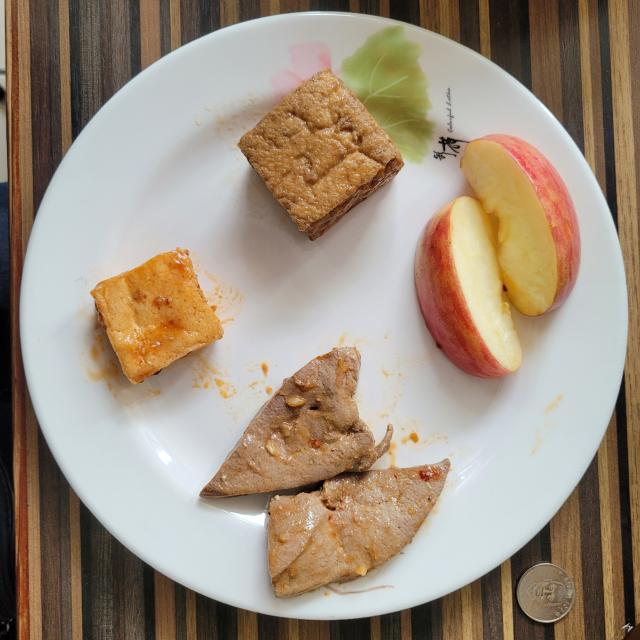apple -sliced-: (415, 135, 580, 378)
coin: (518, 564, 575, 622)
creamy tofu: (91, 249, 222, 384)
egg tofu: (239, 68, 404, 240)
pig liver: (200, 348, 450, 598)
